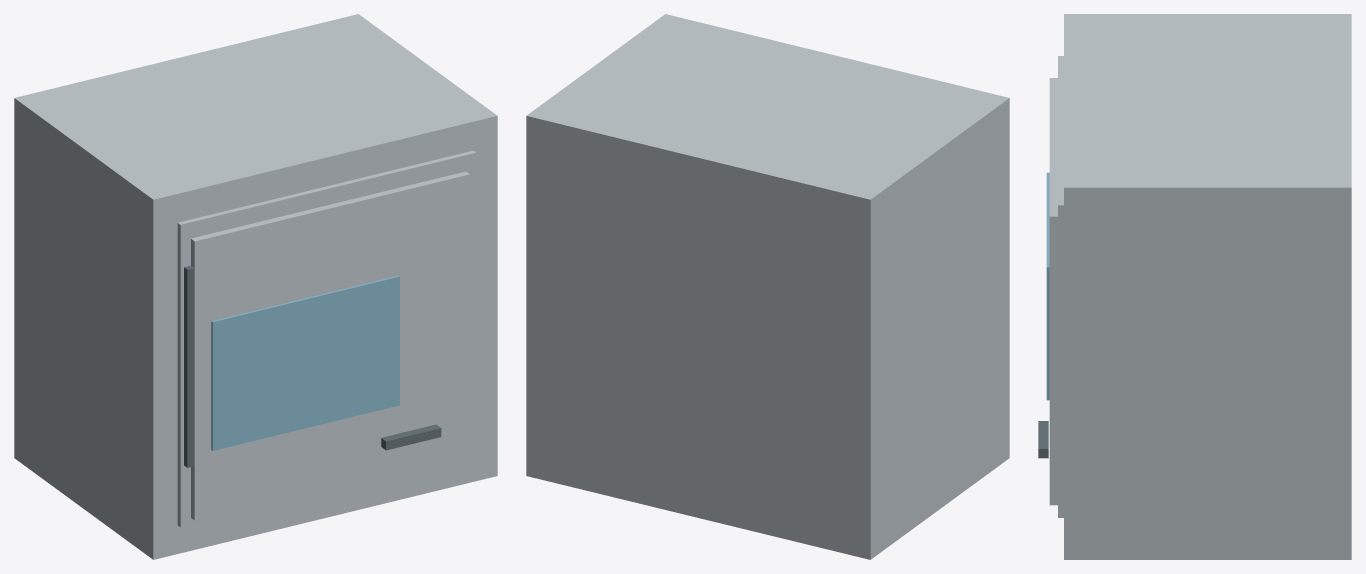
Rendered from laser_cutter.glb.
3 renders of one model, left to right at view 1: azimuth 30°, elevation 25°; view 2: azimuth 150°, elevation 25°; view 3: azimuth 270°, elevation 25°, orthographic. The views are drawn at different scales.
Size of the model in its own units: 1 by 1 by 0.7625.
